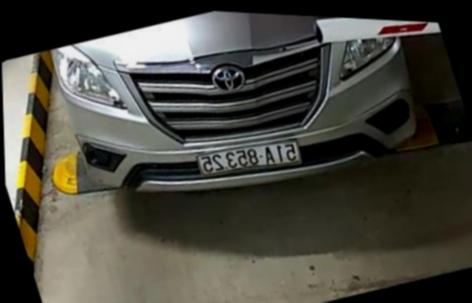License_Plate: (196, 130, 304, 193)
